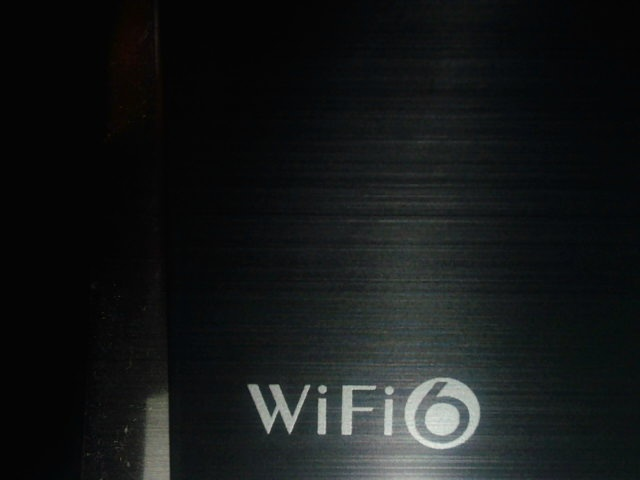AK_ZTEWIFI6Black: (239, 370, 507, 460)
